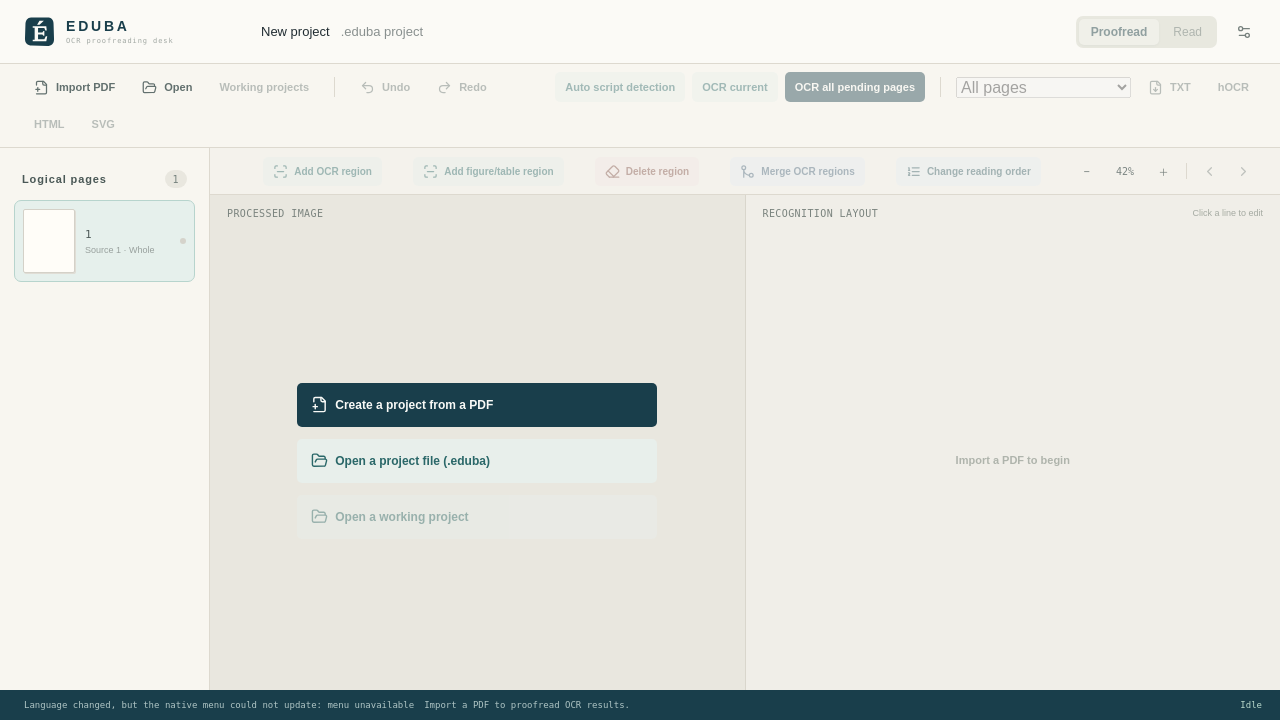
Scenario: saved project loading › shows and consumes a startup language warning without replacing saved content
The width and height of the screenshot is (1280, 720).
Click the button "Open" at x=167, y=87, box top-left (132, 72), bottom-right (202, 102)
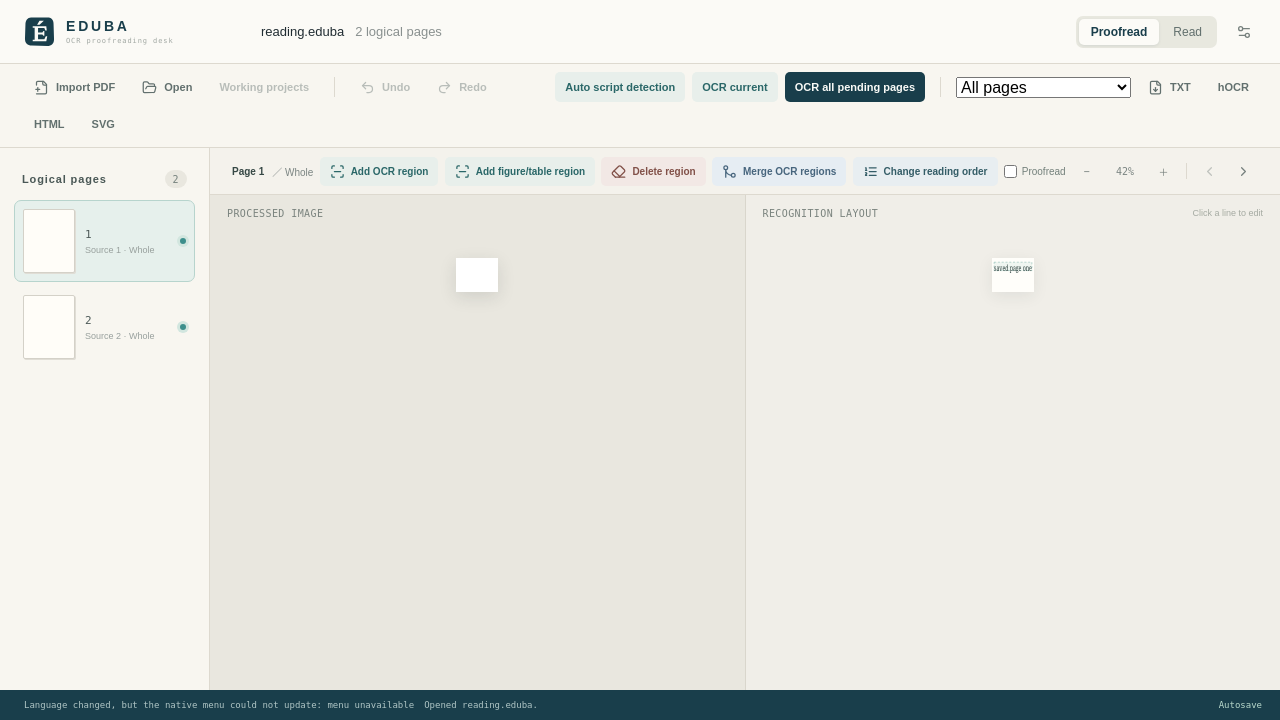
Result: the text "saved page one" is shown at top-left (992, 258), bottom-right (1034, 292)
